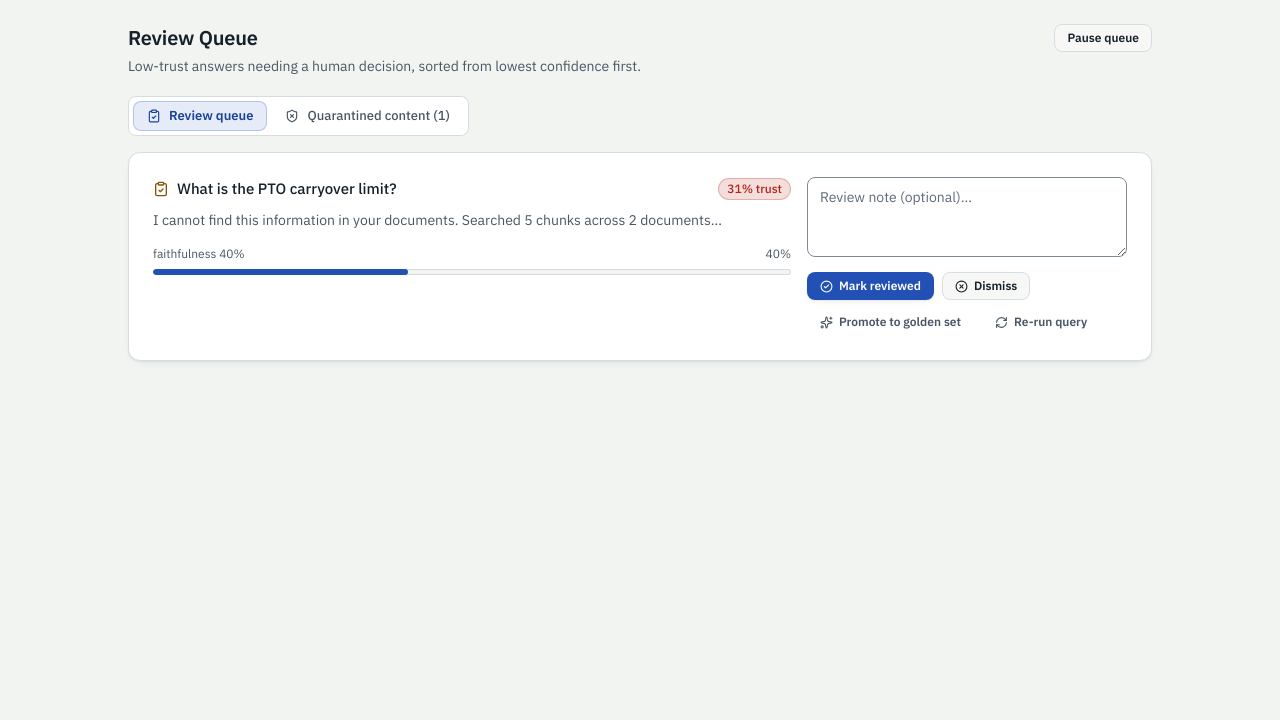
it: ReviewQueuePage › does not prefill the reference answer for an abstention and shows a hint
The image size is (1280, 720).
Click the button "Promote to golden set" at (891, 322), box [807,308,974,336]
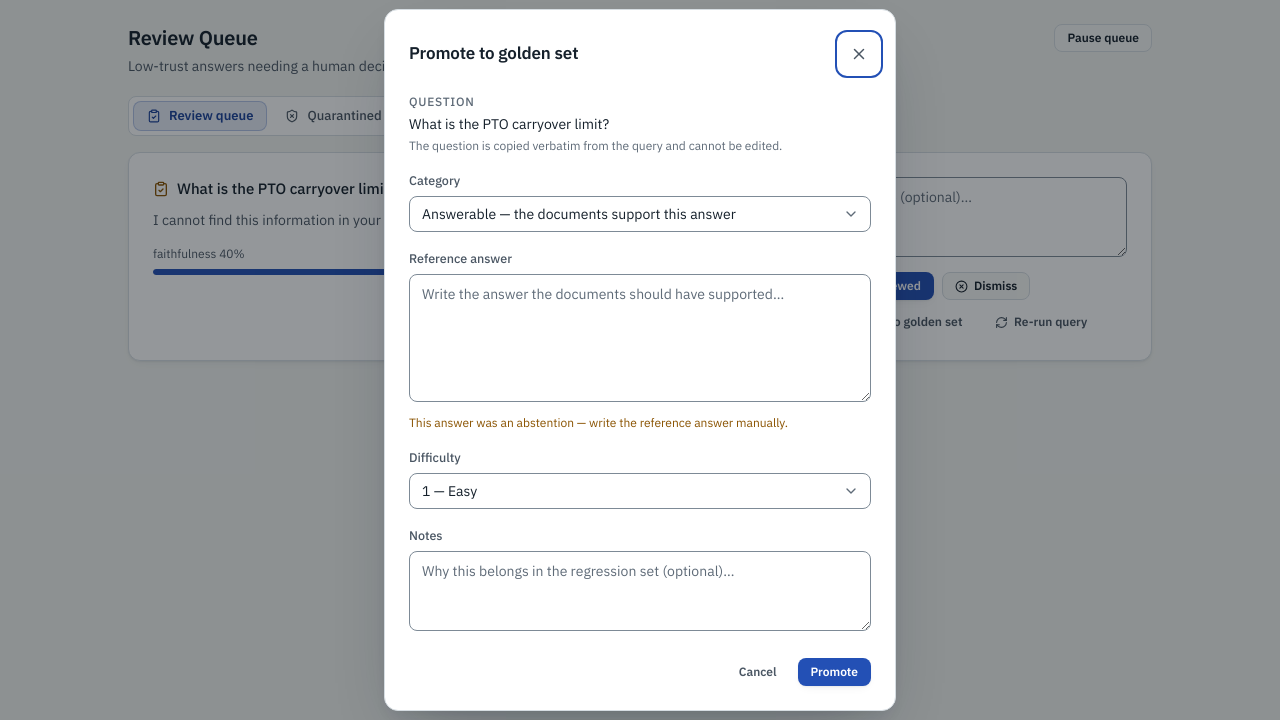
Check: the text box labelled "Reference answer" is empty, box [409,274,871,402]
Check: the text "This answer was an abstention — write the reference answer manually" is shown, box [409,415,788,430]
